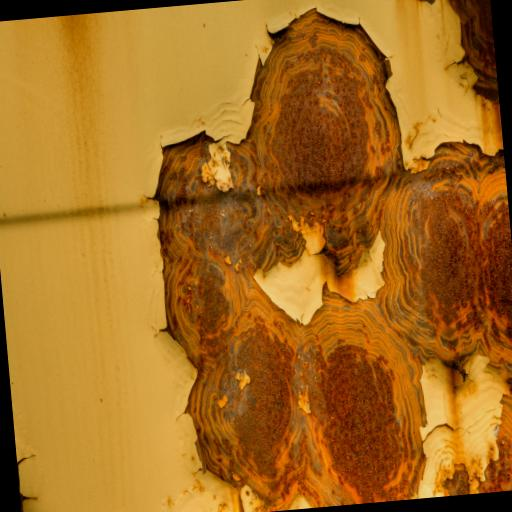segmentation: (156, 9, 512, 511), (448, 0, 499, 102), (444, 463, 470, 496)
